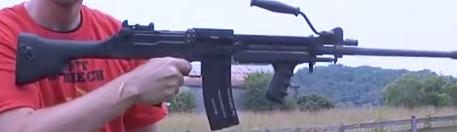gun: (1, 1, 457, 132)
